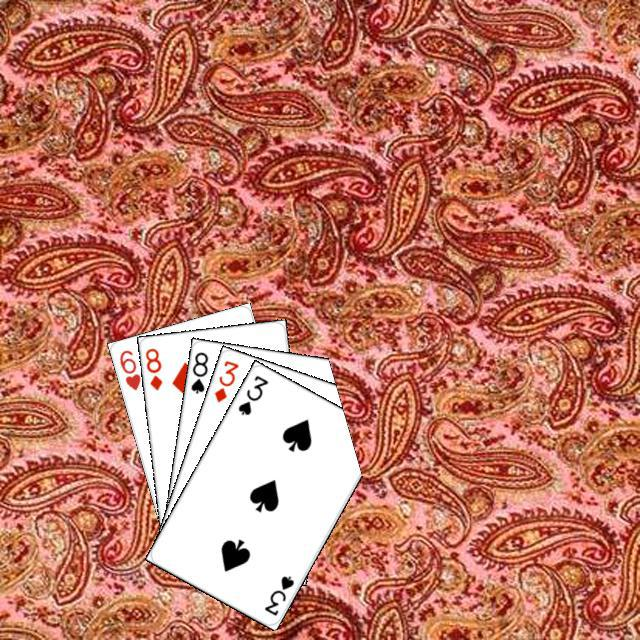3d: (209, 356, 241, 404)
3s: (233, 370, 270, 417), (259, 571, 296, 618)
6h: (114, 345, 142, 392)
8d: (140, 343, 164, 392)
8s: (186, 347, 210, 395)
